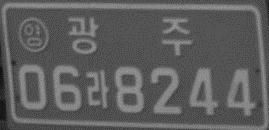0: (18, 63, 47, 111)
2: (149, 66, 182, 115)
4: (187, 67, 218, 115), (226, 68, 255, 116)
6: (51, 64, 82, 113)
8: (114, 65, 144, 113)
광주_D: (66, 16, 192, 56)
라: (85, 69, 110, 109)
영: (17, 17, 50, 52)
